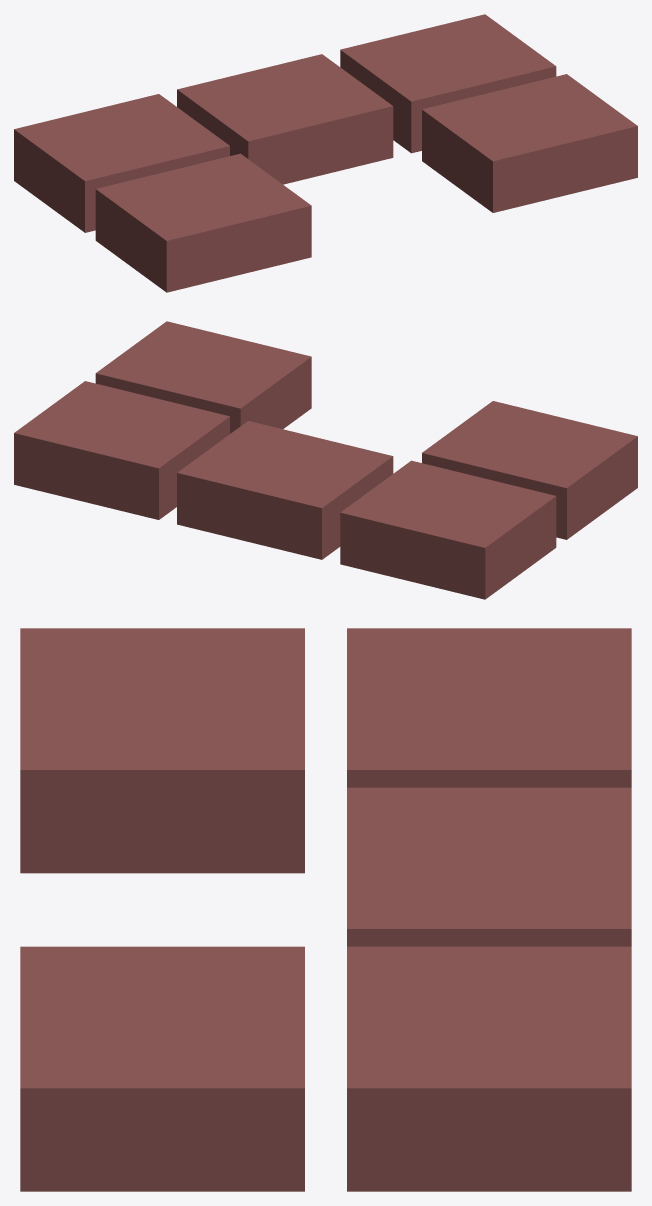
Rendered from building.fbx.
3 renders of one model, top to bottom at view 1: azimuth 30°, elevation 25°; view 2: azimuth 150°, elevation 25°; view 3: azimuth 270°, elevation 25°, orthographic. The views are drawn at different scales.
Visible parts, largest first — view 1: Cube.080; view 2: Cube.080; view 3: Cube.080.
Boxes of the visible parts, <box> form: Cube.080: <box>14,14,637,292</box>; Cube.080: <box>14,321,637,599</box>; Cube.080: <box>20,628,631,1191</box>.
Size of the model in its own units: 29021 by 3043 by 16296.
